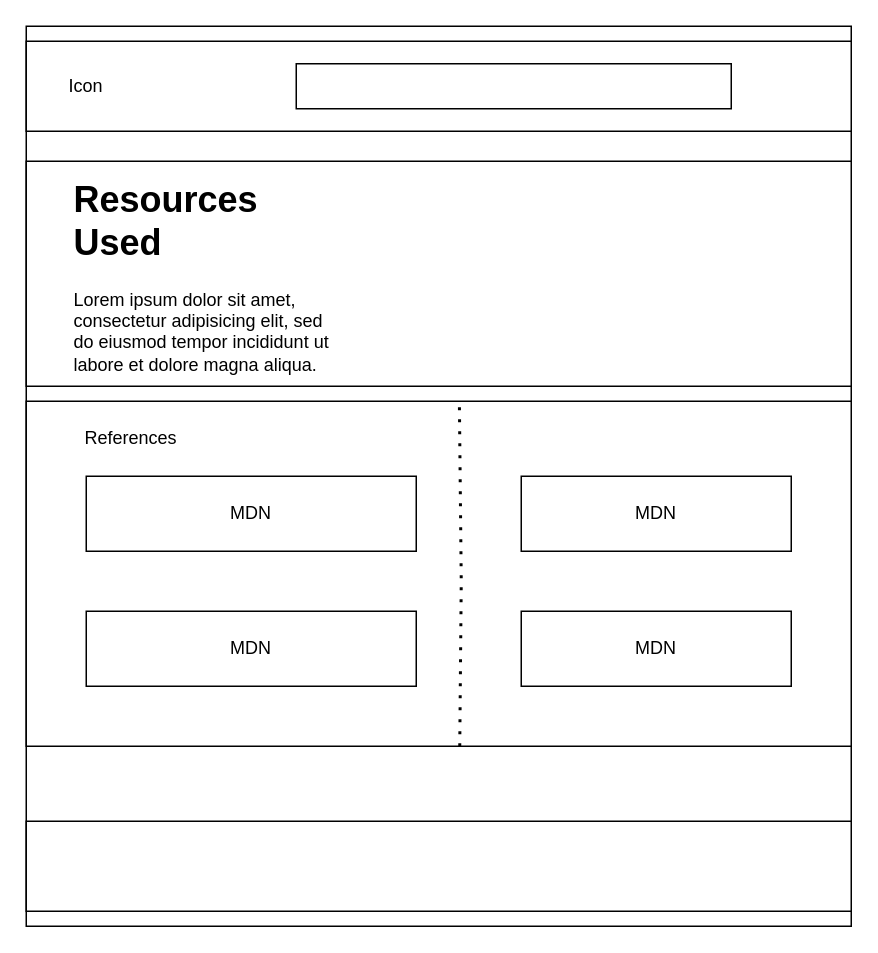
The diagram is 878 pixels wide and 953 high, and some of its shapes have lost their labels. The shapes that lost their labels are listed below. From the top down, each one's centre as x and y in pixels, then its label:
point (513, 85): Nav Links
point (438, 865): Footer (Socials | Back to home )
